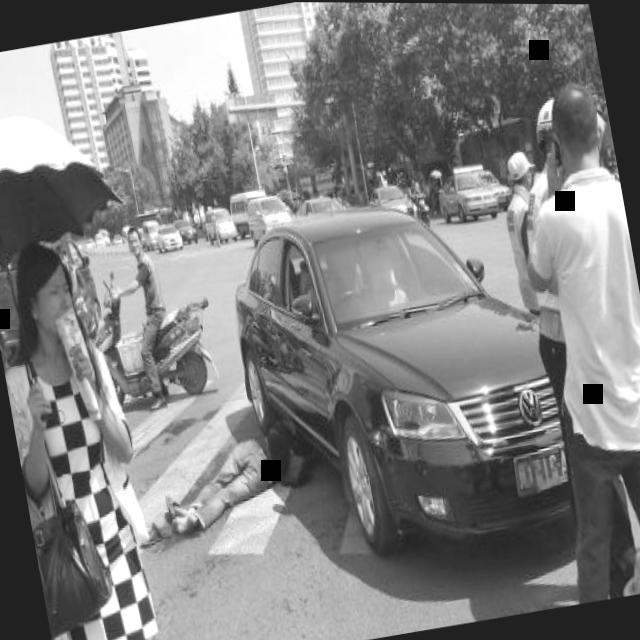Fall-Detected: (144, 396, 322, 553)
